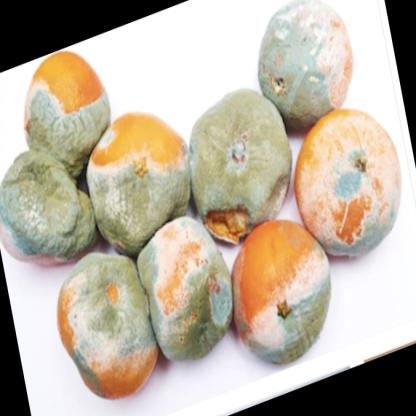rotten: (90, 109, 195, 249), (297, 110, 400, 251), (58, 253, 160, 395), (193, 91, 294, 233), (139, 221, 240, 362), (232, 223, 333, 364), (261, 4, 363, 128), (29, 48, 112, 181), (4, 156, 92, 261)
